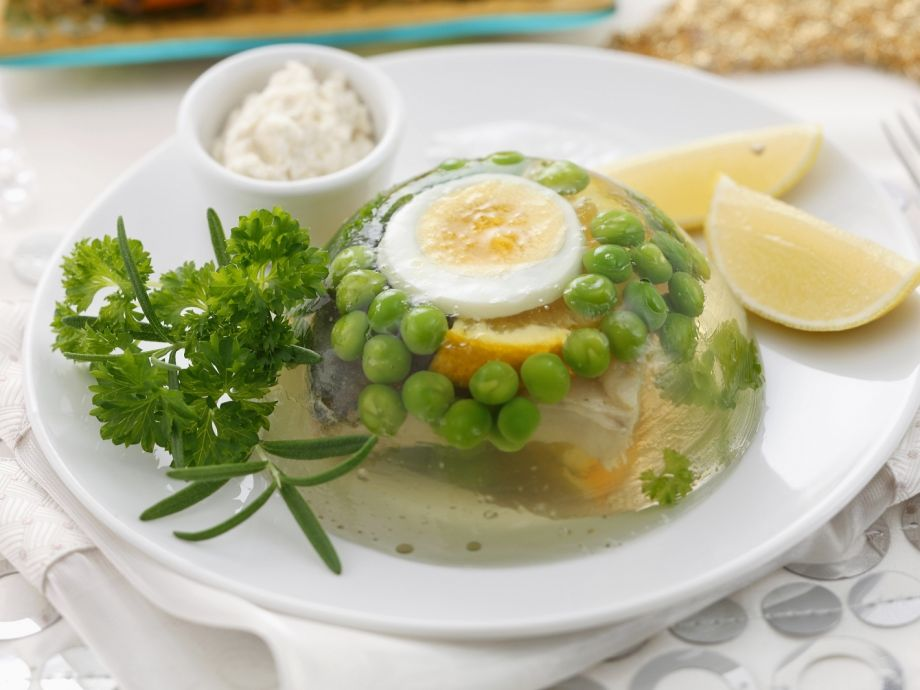boiled peas: (332, 277, 683, 446), (587, 207, 698, 316)
